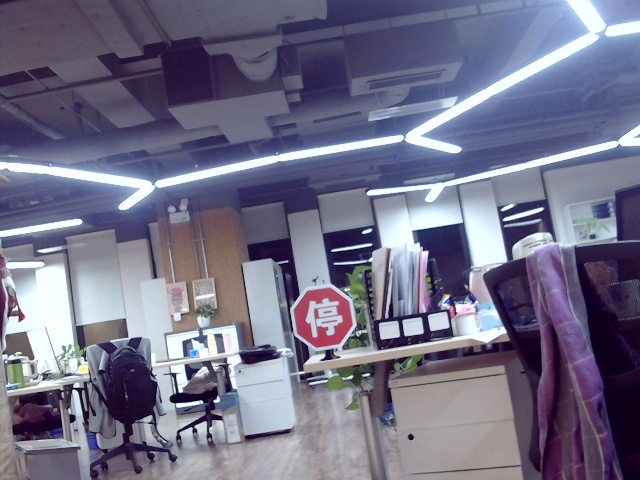stop: (301, 297, 345, 338)
